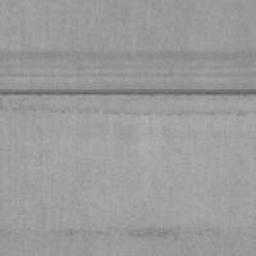Welding line: (0, 88, 256, 97)
